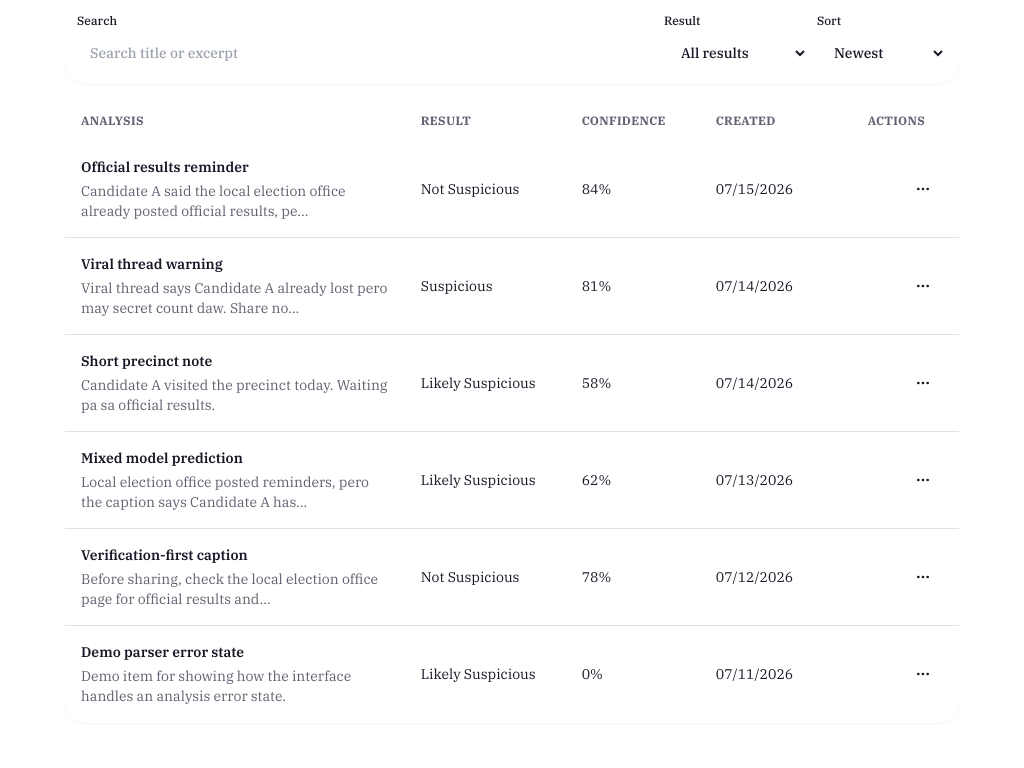
Test case: History › searches and filters analyses
Expected: the text "Official results reminder" is shown, [81,158,249,176]
Type "secret count" into the field labelled "Search" at (366, 53), box [77,35,656,71]
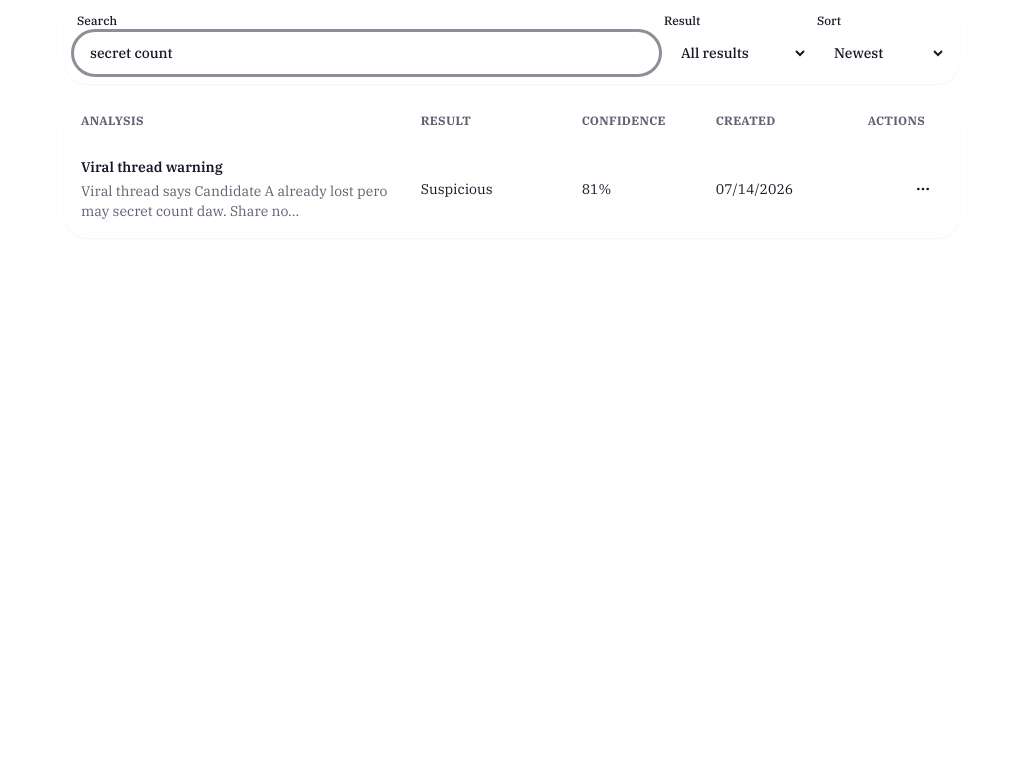
Expected: the text "Viral thread warning" is shown, [81,158,223,176]
Expected: the text "Official results reminder" is not shown
